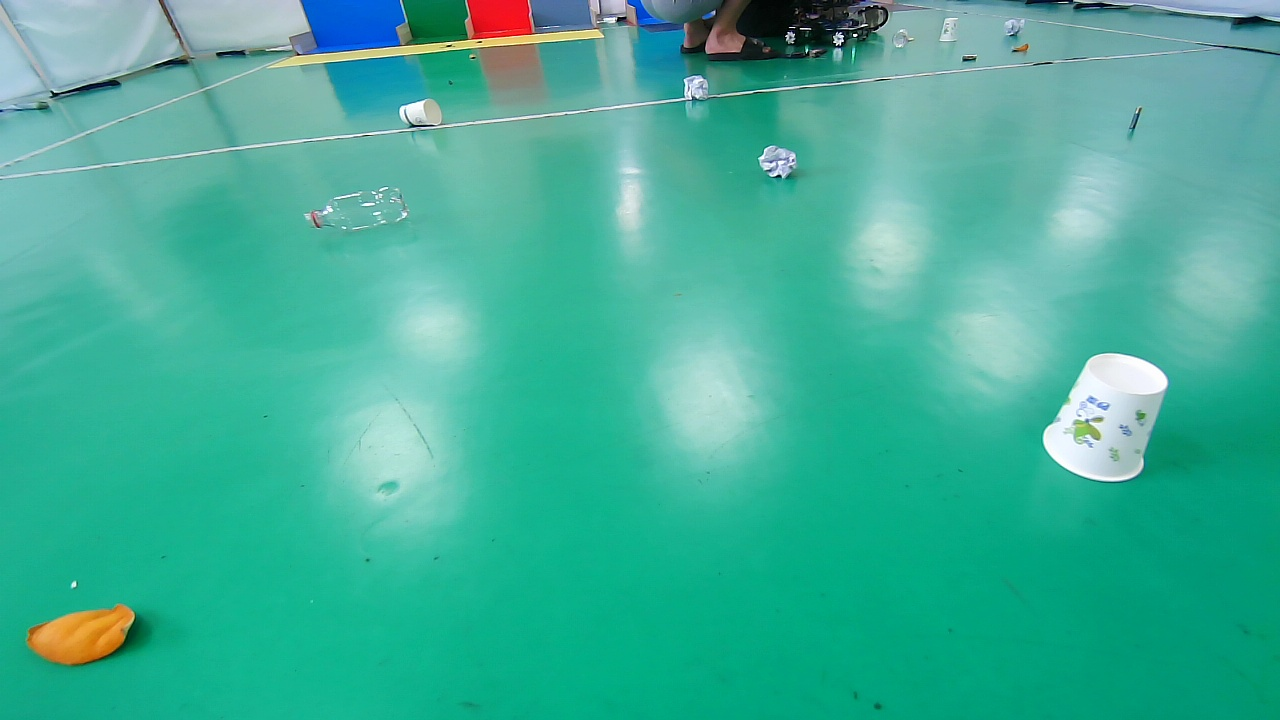battery: (1123, 101, 1147, 136), (956, 49, 983, 66)
bottle: (301, 185, 412, 239), (892, 28, 909, 49)
orangepeel: (20, 599, 145, 672), (1008, 40, 1032, 55)
papercup: (1038, 347, 1173, 487), (395, 96, 447, 131), (939, 15, 961, 42)
spitball: (756, 145, 802, 181), (683, 75, 713, 105), (1001, 17, 1026, 38)
